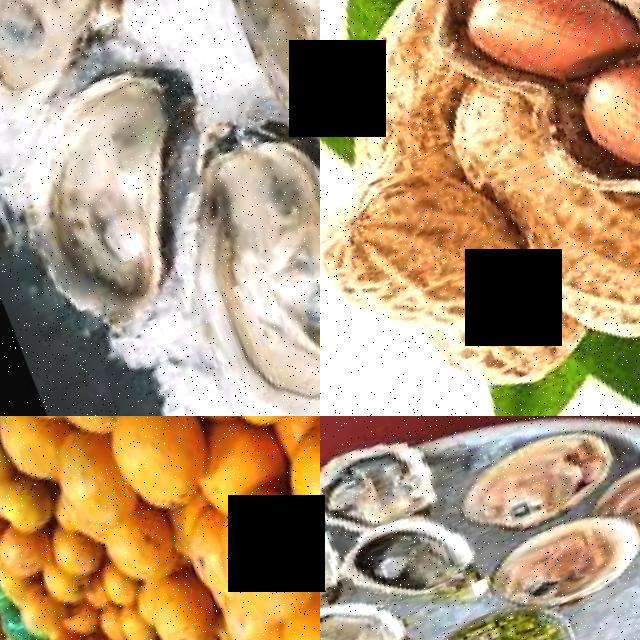orange: (196, 472, 320, 632), (93, 416, 221, 524), (44, 423, 144, 546), (95, 507, 184, 592), (272, 421, 320, 570), (138, 565, 224, 640), (0, 416, 65, 484)
oysters: (140, 103, 320, 416), (0, 80, 208, 345), (330, 500, 483, 640), (0, 0, 141, 137), (320, 424, 440, 551), (320, 581, 423, 640)
peanuts: (320, 143, 514, 361), (525, 180, 640, 378), (455, 0, 640, 115), (560, 41, 640, 198)
